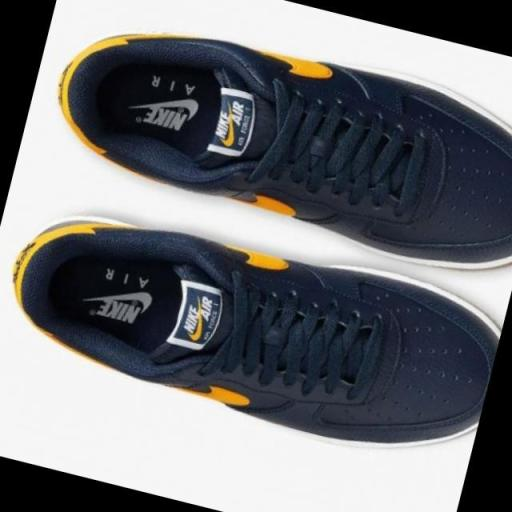Nike: (222, 110, 240, 145), (182, 306, 200, 332)
